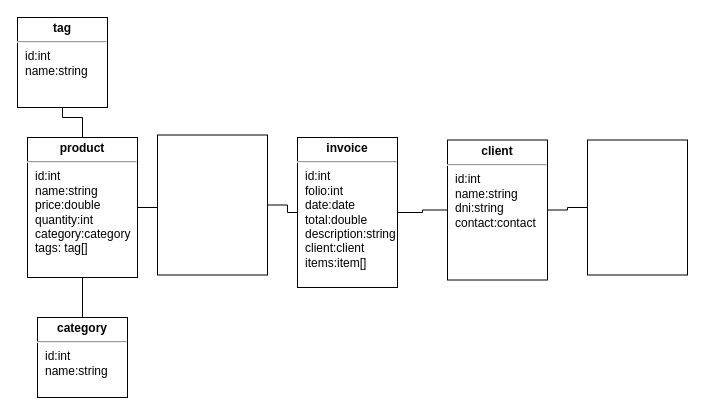
This 705x415 diagram has some shape labels left out. The shapes that lost their labels are listed below. From the top down, each one's centre as x and y in pixels, then its label:
At [212,204]: "item id:int quantity:int price:double subtotal:double product: product".
At [637,207]: "contact id:int address:string phones:string[] email:string".
